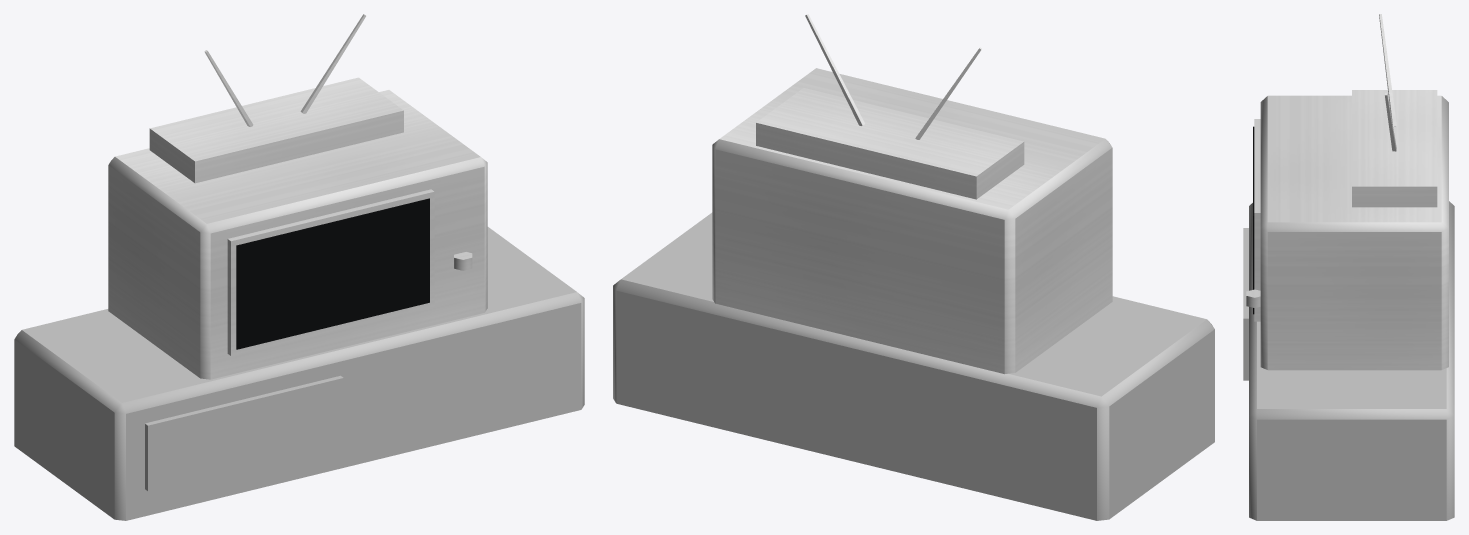
3 renders of one model, left to right at view 1: azimuth 30°, elevation 25°; view 2: azimuth 150°, elevation 25°; view 3: azimuth 270°, elevation 25°, orthographic. The views are drawn at different scales.
Parts seen in each view (by area): view 1: television_cabinet, tube_housing, retained_25, retained_15, retained_5, retained_20; view 2: television_cabinet, tube_housing, retained_15, retained_47; view 3: tube_housing, television_cabinet, retained_15, retained_20, retained_5, retained_37, retained_25, retained_47, retained_30.
Boxes of the visible parts, x1=… form: television_cabinet: x1=14, y1=227, x2=584, y2=520; tube_housing: x1=108, y1=90, x2=487, y2=379; retained_25: x1=236, y1=198, x2=429, y2=349; retained_15: x1=149, y1=77, x2=403, y2=183; retained_5: x1=145, y1=375, x2=343, y2=490; retained_20: x1=227, y1=189, x2=434, y2=355; television_cabinet: x1=613, y1=212, x2=1214, y2=520; tube_housing: x1=712, y1=68, x2=1112, y2=374; retained_15: x1=756, y1=88, x2=1024, y2=199; retained_47: x1=805, y1=14, x2=864, y2=125; tube_housing: x1=1260, y1=95, x2=1448, y2=370; television_cabinet: x1=1249, y1=201, x2=1454, y2=520; retained_15: x1=1352, y1=90, x2=1437, y2=207; retained_20: x1=1254, y1=119, x2=1260, y2=321; retained_5: x1=1243, y1=228, x2=1248, y2=380; retained_37: x1=1379, y1=14, x2=1396, y2=126; retained_25: x1=1253, y1=126, x2=1254, y2=314; retained_47: x1=1384, y1=93, x2=1396, y2=151; retained_30: x1=1246, y1=289, x2=1260, y2=307.
Bounding box in the file's own units: 1.8 × 1.4 × 0.74.
